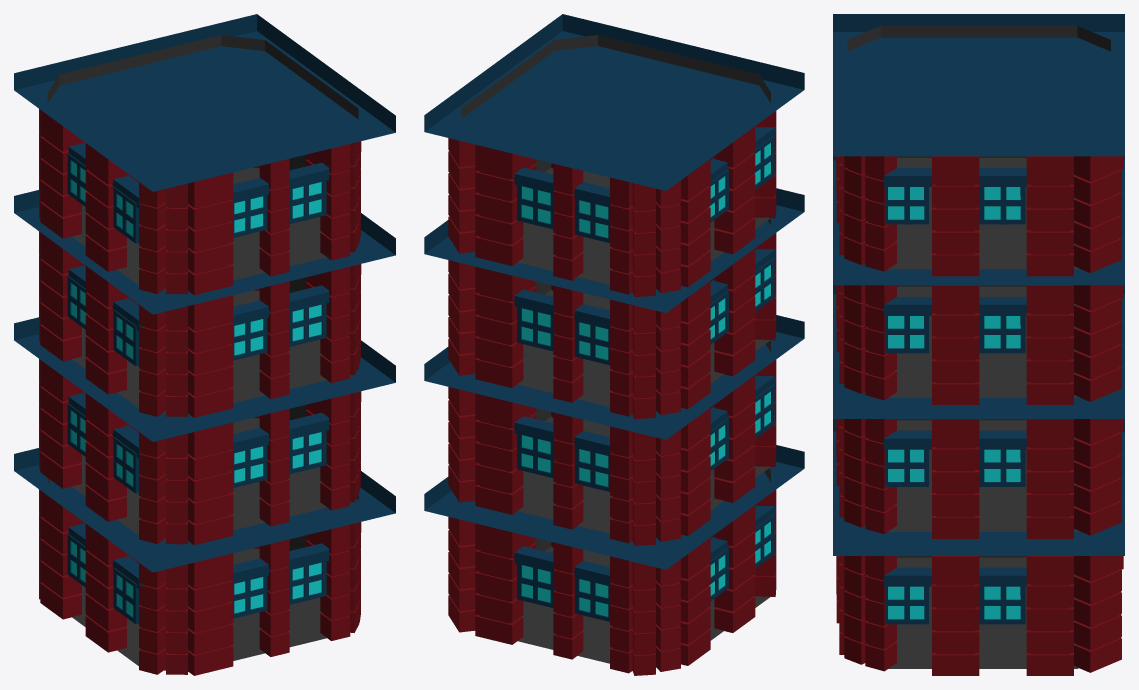
Rendered from buildingRouge2.fbx.
3 views of the same model, side by side, from view 1: azimuth 30°, elevation 25°; view 2: azimuth 150°, elevation 25°; view 3: azimuth 270°, elevation 25° (orthographic). The views are drawn at different scales.
Parts seen in each view (by area): view 1: Building.006, betong.004, betong.003, betong.005, betong.006, Building.003, Building.004, Building.005; view 2: Building.006, betong.005, betong.006, betong.004, betong.003, Building.003, Building.004, Building.005; view 3: Building.006, betong.006, betong.005, betong.003, betong.004, Building.003, Building.004, Building.005.
Part boxes in pixels (x1,y1,x2,y2): Building.006: [14, 14, 395, 291]; betong.004: [39, 359, 360, 545]; betong.003: [39, 489, 360, 675]; betong.005: [39, 231, 360, 417]; betong.006: [39, 109, 360, 295]; Building.003: [14, 448, 395, 671]; Building.004: [14, 317, 395, 541]; Building.005: [14, 190, 395, 413]; Building.006: [424, 14, 804, 284]; betong.005: [448, 233, 776, 419]; betong.006: [448, 111, 776, 297]; betong.004: [448, 360, 776, 545]; betong.003: [448, 490, 776, 675]; Building.003: [424, 445, 804, 663]; Building.004: [424, 315, 804, 533]; Building.005: [424, 165, 804, 406]; Building.006: [833, 14, 1124, 269]; betong.006: [836, 156, 1123, 276]; betong.005: [836, 285, 1123, 404]; betong.003: [836, 556, 1123, 675]; betong.004: [836, 419, 1123, 538]; Building.003: [833, 419, 1124, 668]; Building.004: [833, 285, 1124, 531]; Building.005: [833, 156, 1124, 397].
Bounding box in the file's own units: 2565 × 5170 × 2540.
